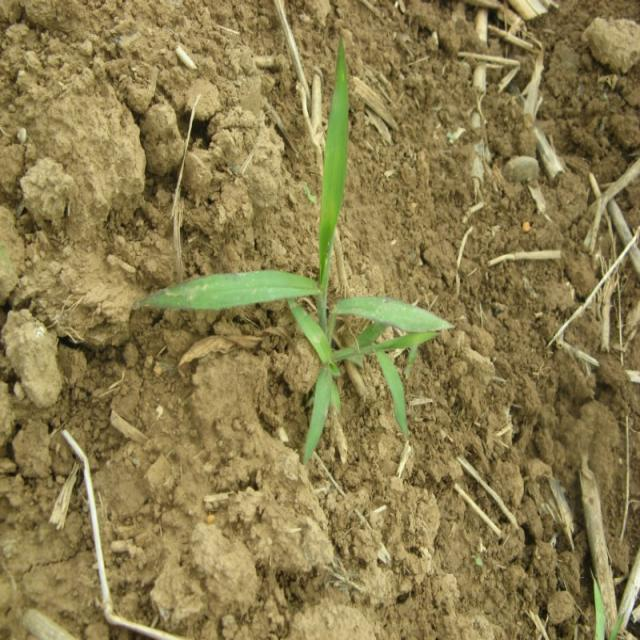bg: (143, 24, 452, 460)
